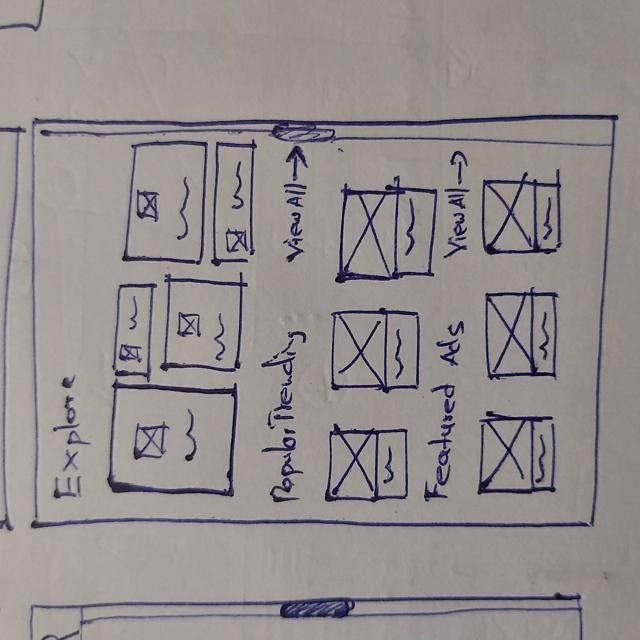Icon: (282, 145, 307, 178), (448, 148, 469, 183)
Image: (339, 185, 394, 281), (329, 312, 385, 388), (476, 419, 533, 491), (481, 177, 535, 252), (487, 292, 532, 379), (330, 430, 376, 499), (134, 423, 166, 460), (136, 189, 162, 222), (225, 224, 248, 254), (118, 342, 144, 364), (179, 311, 199, 337)
Layout: (109, 383, 236, 499), (123, 141, 204, 266), (336, 183, 435, 282), (162, 277, 240, 375), (326, 310, 420, 391), (483, 290, 558, 377), (480, 177, 563, 255), (476, 415, 557, 493), (328, 429, 409, 501), (214, 141, 256, 263), (112, 284, 154, 377)
MainLayout: (27, 113, 622, 532)
ScrollBar: (33, 119, 618, 148)
ScrollView: (37, 143, 588, 519)
TextView: (427, 322, 467, 503), (269, 331, 301, 502), (52, 368, 87, 503), (276, 181, 310, 265), (446, 187, 469, 264), (389, 325, 410, 383), (176, 173, 192, 247), (180, 410, 200, 469), (405, 197, 418, 260), (128, 292, 146, 336), (232, 158, 246, 213), (540, 192, 554, 243), (540, 306, 552, 364), (213, 314, 228, 360), (383, 443, 398, 488), (536, 430, 546, 485)
